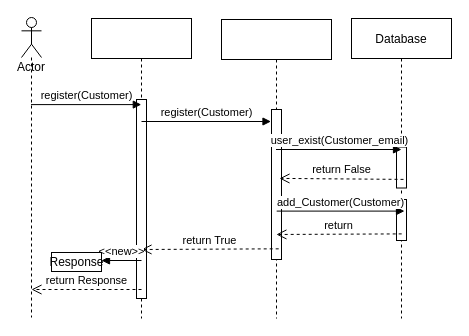
The diagram is 469 pixels wide and 336 high, and some of its shapes have lost their labels. The shapes that lost their labels are listed below. From the top down, each one's box as (x1, y1, x2, y2) in pixels, then its label:
(90, 18, 192, 318): AuthenticationCTR
(220, 18, 332, 318): AuthenticationService
